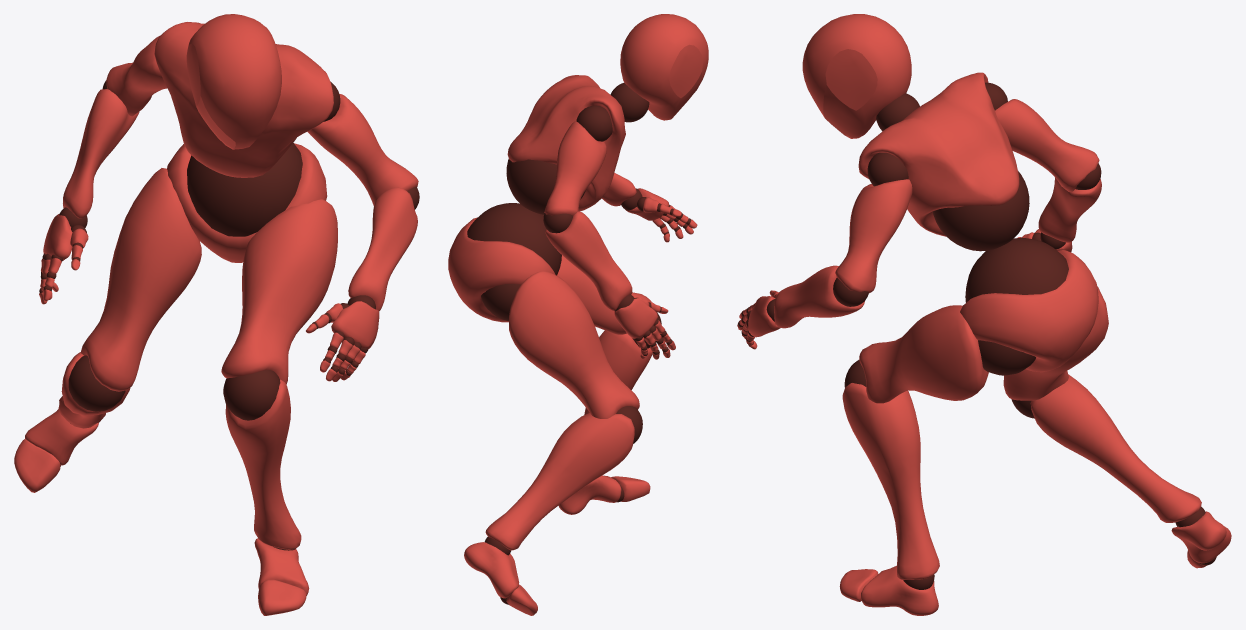
3 views of the same model, side by side, from view 1: azimuth 30°, elevation 25°; view 2: azimuth 150°, elevation 25°; view 3: azimuth 270°, elevation 25° (orthographic). The views are drawn at different scales.
Parts seen in each view (by area): view 1: Beta_Surface, Beta_Joints; view 2: Beta_Surface, Beta_Joints; view 3: Beta_Surface, Beta_Joints.
Part boxes in pixels (x1=…): Beta_Surface: x1=14, y1=14, x2=418, y2=615; Beta_Joints: x1=39, y1=80, x2=419, y2=550; Beta_Surface: x1=448, y1=14, x2=708, y2=615; Beta_Joints: x1=467, y1=83, x2=691, y2=604; Beta_Surface: x1=737, y1=14, x2=1231, y2=615; Beta_Joints: x1=738, y1=82, x2=1216, y2=589.
Bounding box in the file's own units: 0.671 × 1.37 × 1.1.
